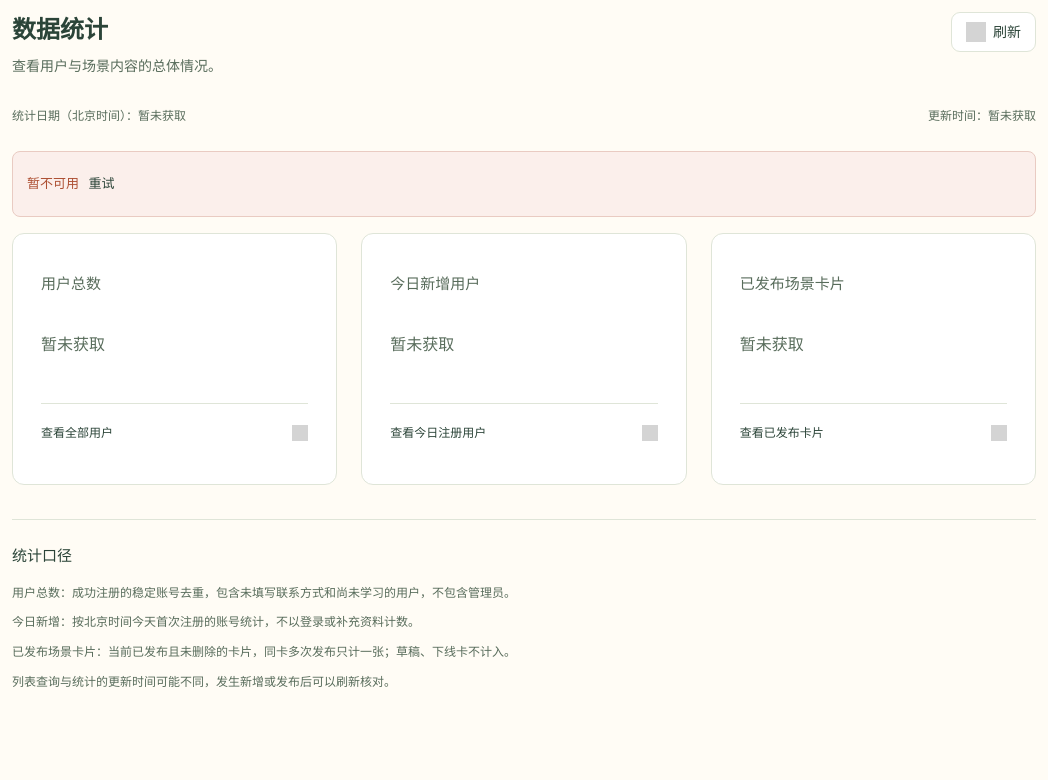
Scenario: shows unavailable after a first 503 and retries without inventing zero
expect the number of buttons with class "overview-metric" is 3: met, box [12, 233, 337, 485]; [361, 233, 687, 485]; [711, 233, 1036, 485]
Click the button "重试". click: (102, 184)
box: [82, 164, 120, 204]
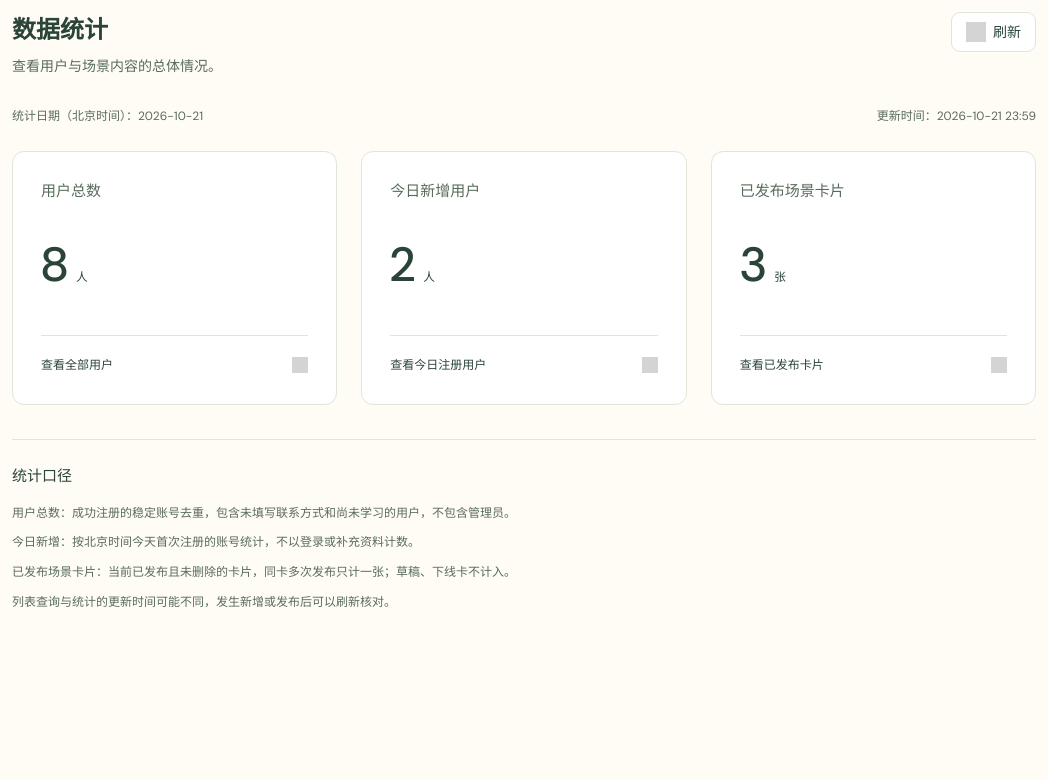
expect the number of elements with class "metric-value" is 3: met, box [41, 237, 68, 292]; [390, 237, 415, 292]; [740, 237, 766, 292]
